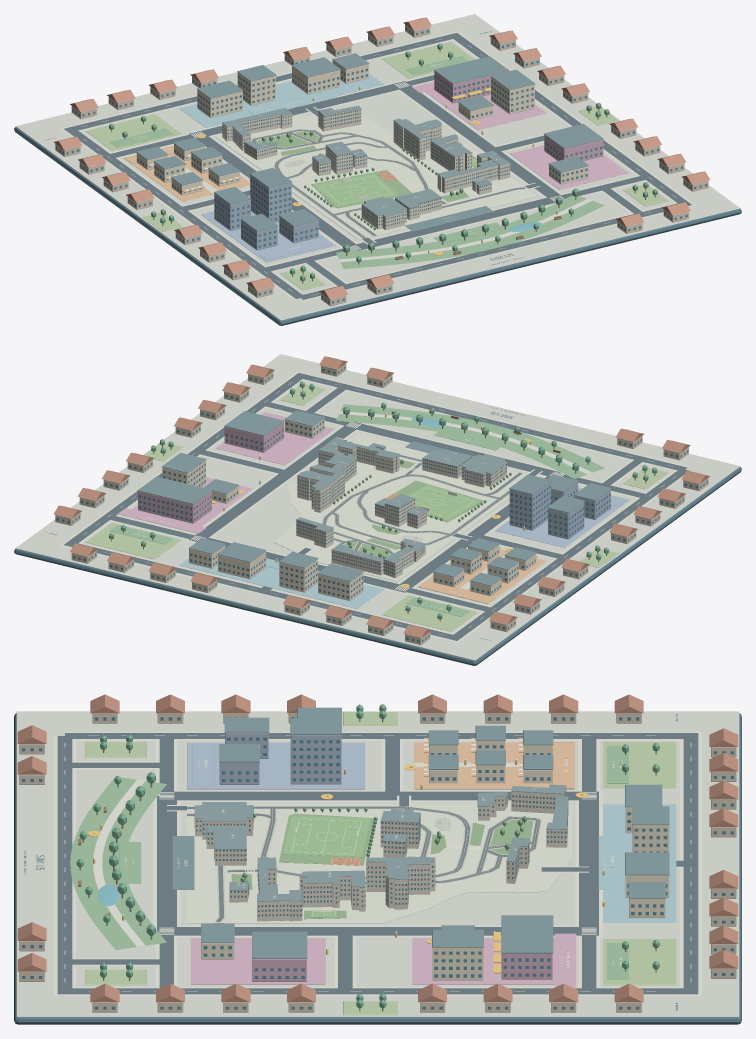
Rendered from Neighborhood.fbx.
3 views of the same model, one above another, from view 1: azimuth 30°, elevation 25°; view 2: azimuth 150°, elevation 25°; view 3: azimuth 270°, elevation 25° (orthographic). The views are drawn at different scales.
Visible parts, largest first — view 1: Ground, Campus surface, Street 01, 200 x 200 m site, Pavement 01, Crescent park, Street 00, Street 03, Pavement 00, Academy precinct, Entertainment precinct, Sports field (+36 smaller); view 2: Ground, Campus surface, Street 01, 200 x 200 m site, Pavement 01, Crescent park, Street 00, Pavement 00, Academy precinct, Street 03, Entertainment precinct, Street 02 (+35 smaller); view 3: Ground, Campus surface, Street 01, 200 x 200 m site, Pavement 01, Street 00, Crescent park, Business precinct, Street 02, Pavement 00, Street 03, Entertainment precinct (+63 smaller).
Part boxes in pixels (box(x1,y1,x2,y2)): Ground: box(15, 14, 740, 320); Campus surface: box(215, 113, 537, 239); Street 01: box(64, 33, 691, 299); 200 x 200 m site: box(14, 127, 741, 325); Pavement 01: box(60, 31, 695, 300); Crescent park: box(336, 195, 604, 268); Street 00: box(189, 81, 560, 250); Street 03: box(261, 175, 649, 272); Pavement 00: box(185, 79, 561, 250); Academy precinct: box(179, 73, 383, 127); Entertainment precinct: box(510, 145, 628, 189); Sports field: box(312, 173, 398, 206); Ground: box(15, 354, 740, 660); Campus surface: box(273, 433, 527, 581); Street 01: box(64, 373, 689, 640); 200 x 200 m site: box(14, 467, 741, 665); Pavement 01: box(60, 371, 691, 642); Crescent park: box(336, 404, 604, 478); Street 00: box(189, 422, 560, 592); Pavement 00: box(185, 422, 558, 594); Academy precinct: box(179, 558, 383, 608); Street 03: box(261, 401, 649, 498); Entertainment precinct: box(215, 412, 333, 465); Street 02: box(106, 515, 494, 612); Ground: box(16, 711, 739, 1016); Campus surface: box(187, 803, 572, 923); Street 01: box(57, 733, 698, 994); 200 x 200 m site: box(14, 713, 741, 1024); Pavement 01: box(54, 731, 701, 995); Street 00: box(157, 791, 598, 935); Crescent park: box(70, 777, 166, 949); Business precinct: box(187, 742, 365, 789); Street 02: box(582, 736, 596, 991); Pavement 00: box(153, 790, 602, 937); Street 03: box(159, 736, 173, 987); Entertainment precinct: box(190, 938, 325, 984).
Bounding box in the file's own units: 200 × 18.25 × 200.
